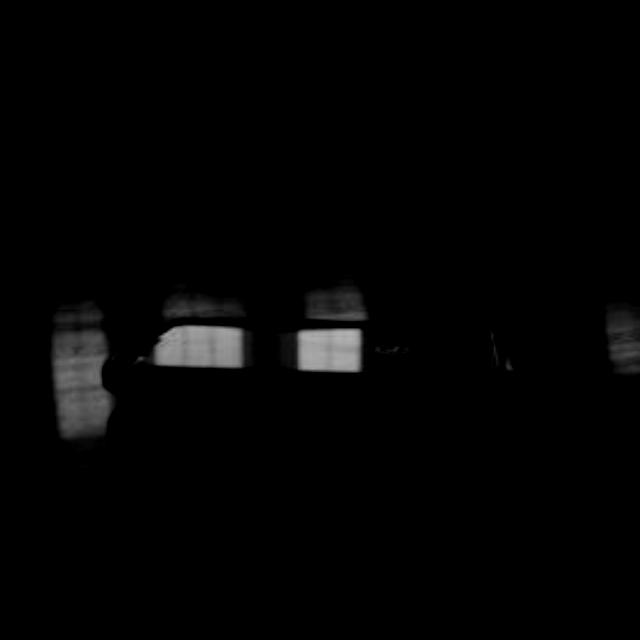fake: (98, 264, 549, 436)
